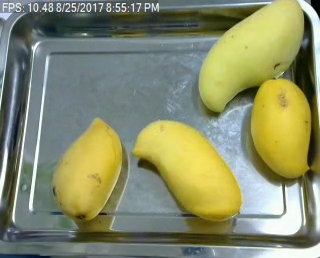Mango: (196, 0, 305, 115), (132, 114, 246, 221), (49, 115, 123, 224), (249, 76, 315, 180)
